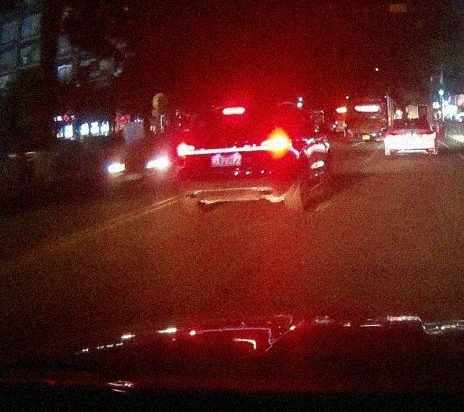L_light: (176, 141, 204, 156)
R_light: (255, 136, 290, 150)
T_light: (222, 107, 245, 115)
night-right: (176, 104, 294, 213)
